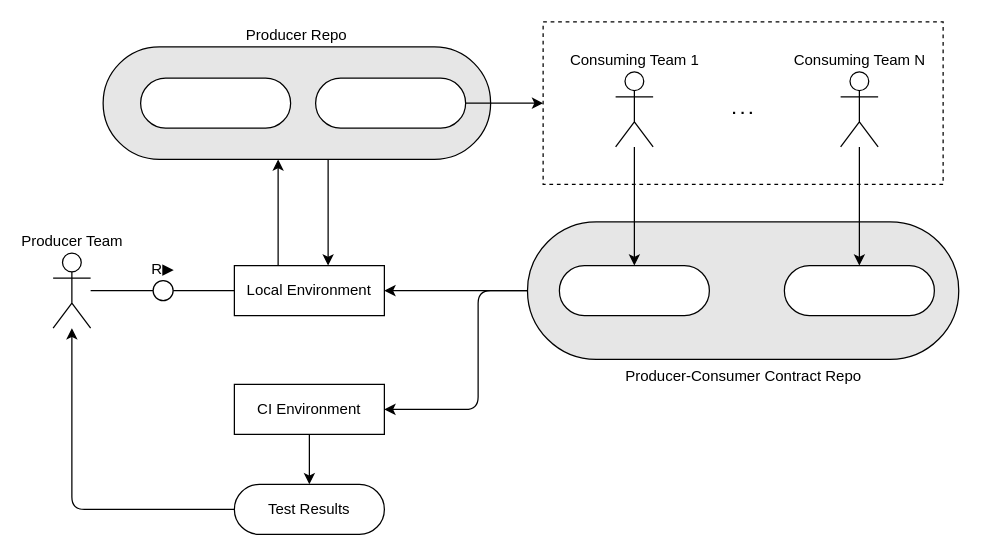
This 981x556 diagram has some shape labels left out. Each missing label, with the centre of its shape:
"Consumer Unit Test 1" belongs at (x=633, y=290).
"Consumer Unit Test N" belongs at (x=858, y=290).
"General API Contract" belongs at (x=390, y=102).
"Producer Code" belongs at (x=215, y=102).
